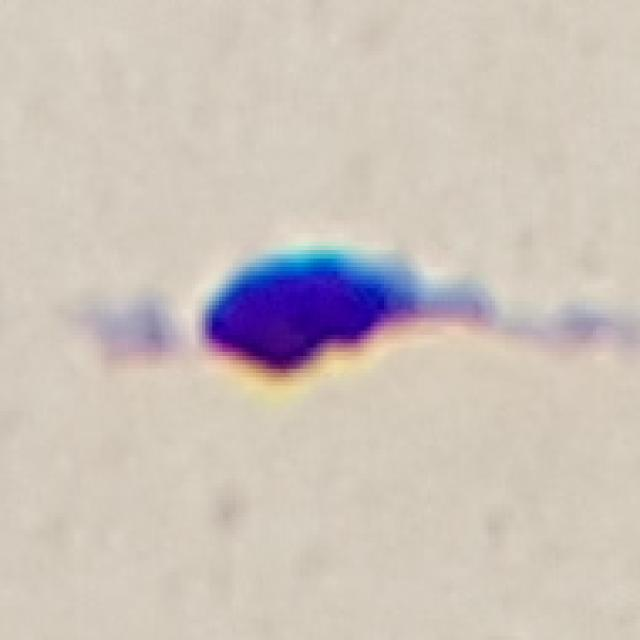abnormal sperm: (188, 238, 597, 382)
